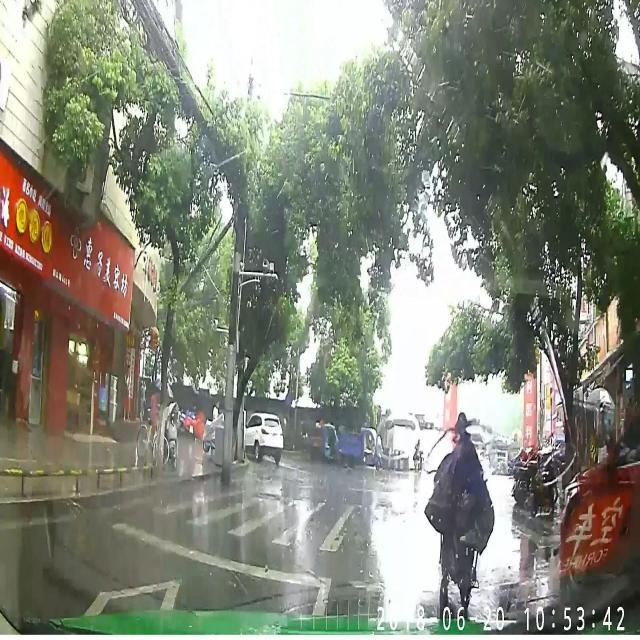car: (245, 410, 283, 460)
